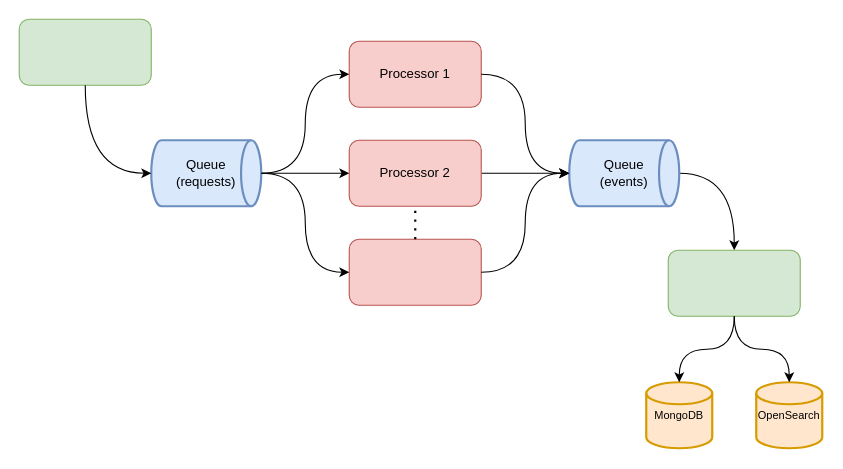
Some shapes in this 843 by 469 pixel diagram are drawn without their labels. Each missing label, with the centre of its shape:
DB client: point 733,282
HTTP Receiver: point 84,51
Processor N: point 414,271
